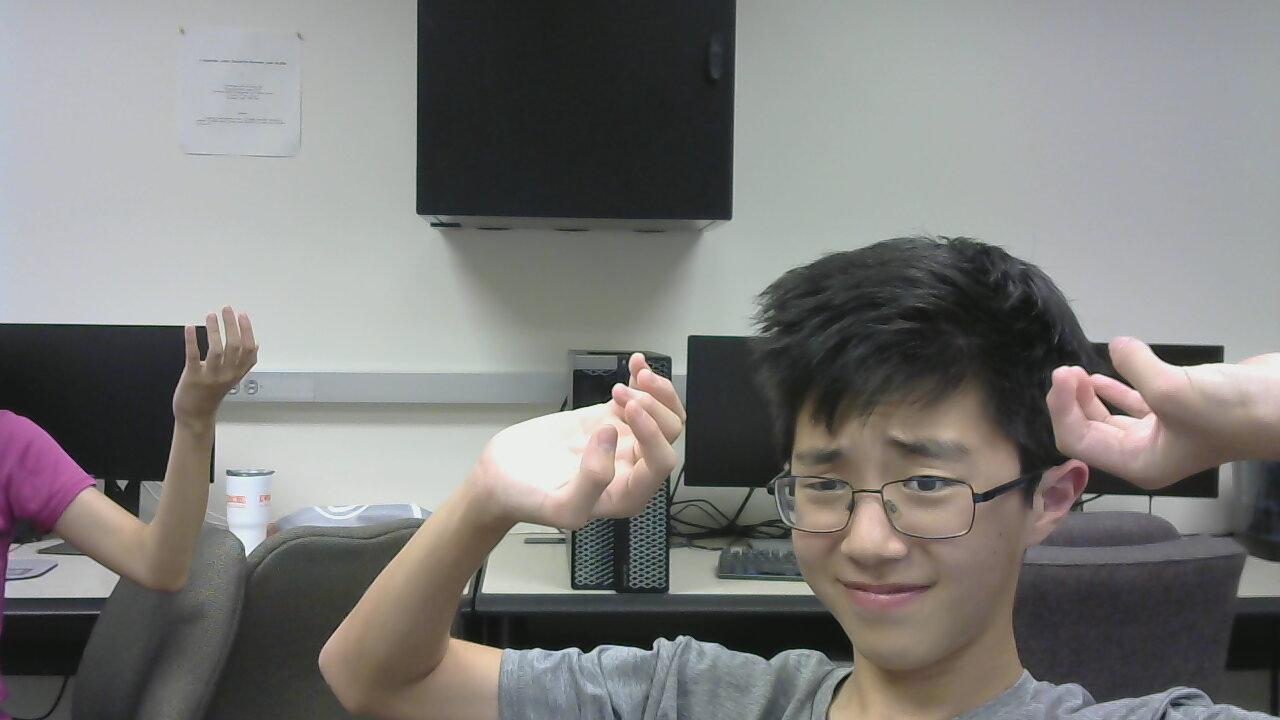hands: (457, 347, 695, 530), (1031, 318, 1280, 474), (165, 303, 281, 424)
